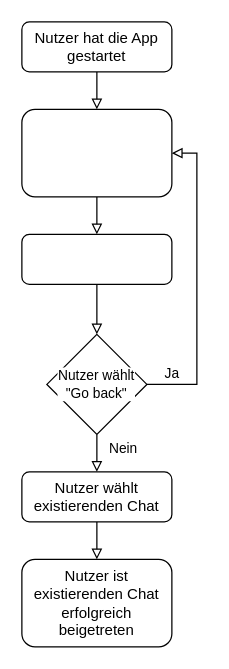
The diagram is 229 pixels wide and 669 high, and some of its shapes have lost their labels. The shapes that lost their labels are listed below. From the top down, each one's centre as x and y in pixels, then its label:
(x=96, y=152): Nutzer befindet sich im Hauptmenü (nach Login oder Registrierung)
(x=96, y=258): Nutzer wählt "Join existing Chatroom"
